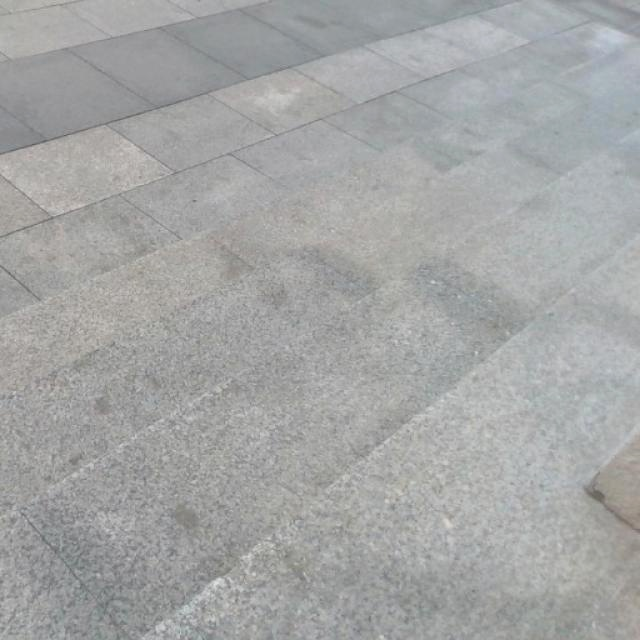stair: (63, 169, 640, 608)
